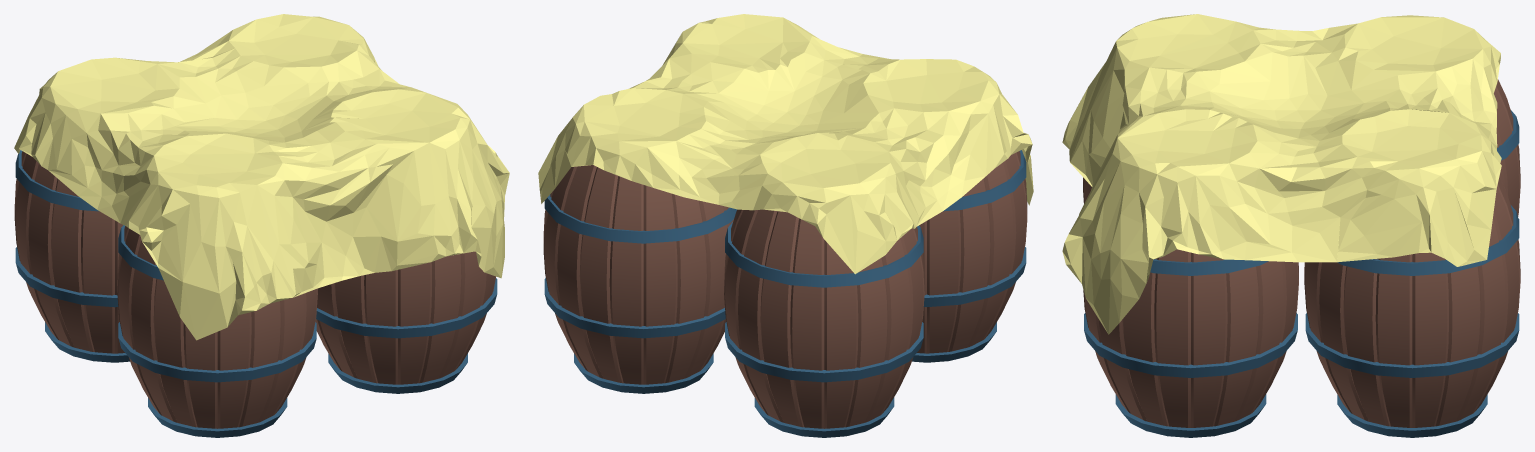
The model's file is barrel_group.FBX.
3 renders of one model, left to right at view 1: azimuth 30°, elevation 25°; view 2: azimuth 150°, elevation 25°; view 3: azimuth 270°, elevation 25°, orthographic. The views are drawn at different scales.
Visible parts, largest first — view 1: barrel_group_LOD0; view 2: barrel_group_LOD0; view 3: barrel_group_LOD0.
Part boxes in pixels (x1,y1,x2,y2): barrel_group_LOD0: [14, 14, 509, 437]; barrel_group_LOD0: [538, 14, 1033, 437]; barrel_group_LOD0: [1062, 14, 1520, 437].
Size of what is drawn, in the model's own units: 202 by 133 by 203.
